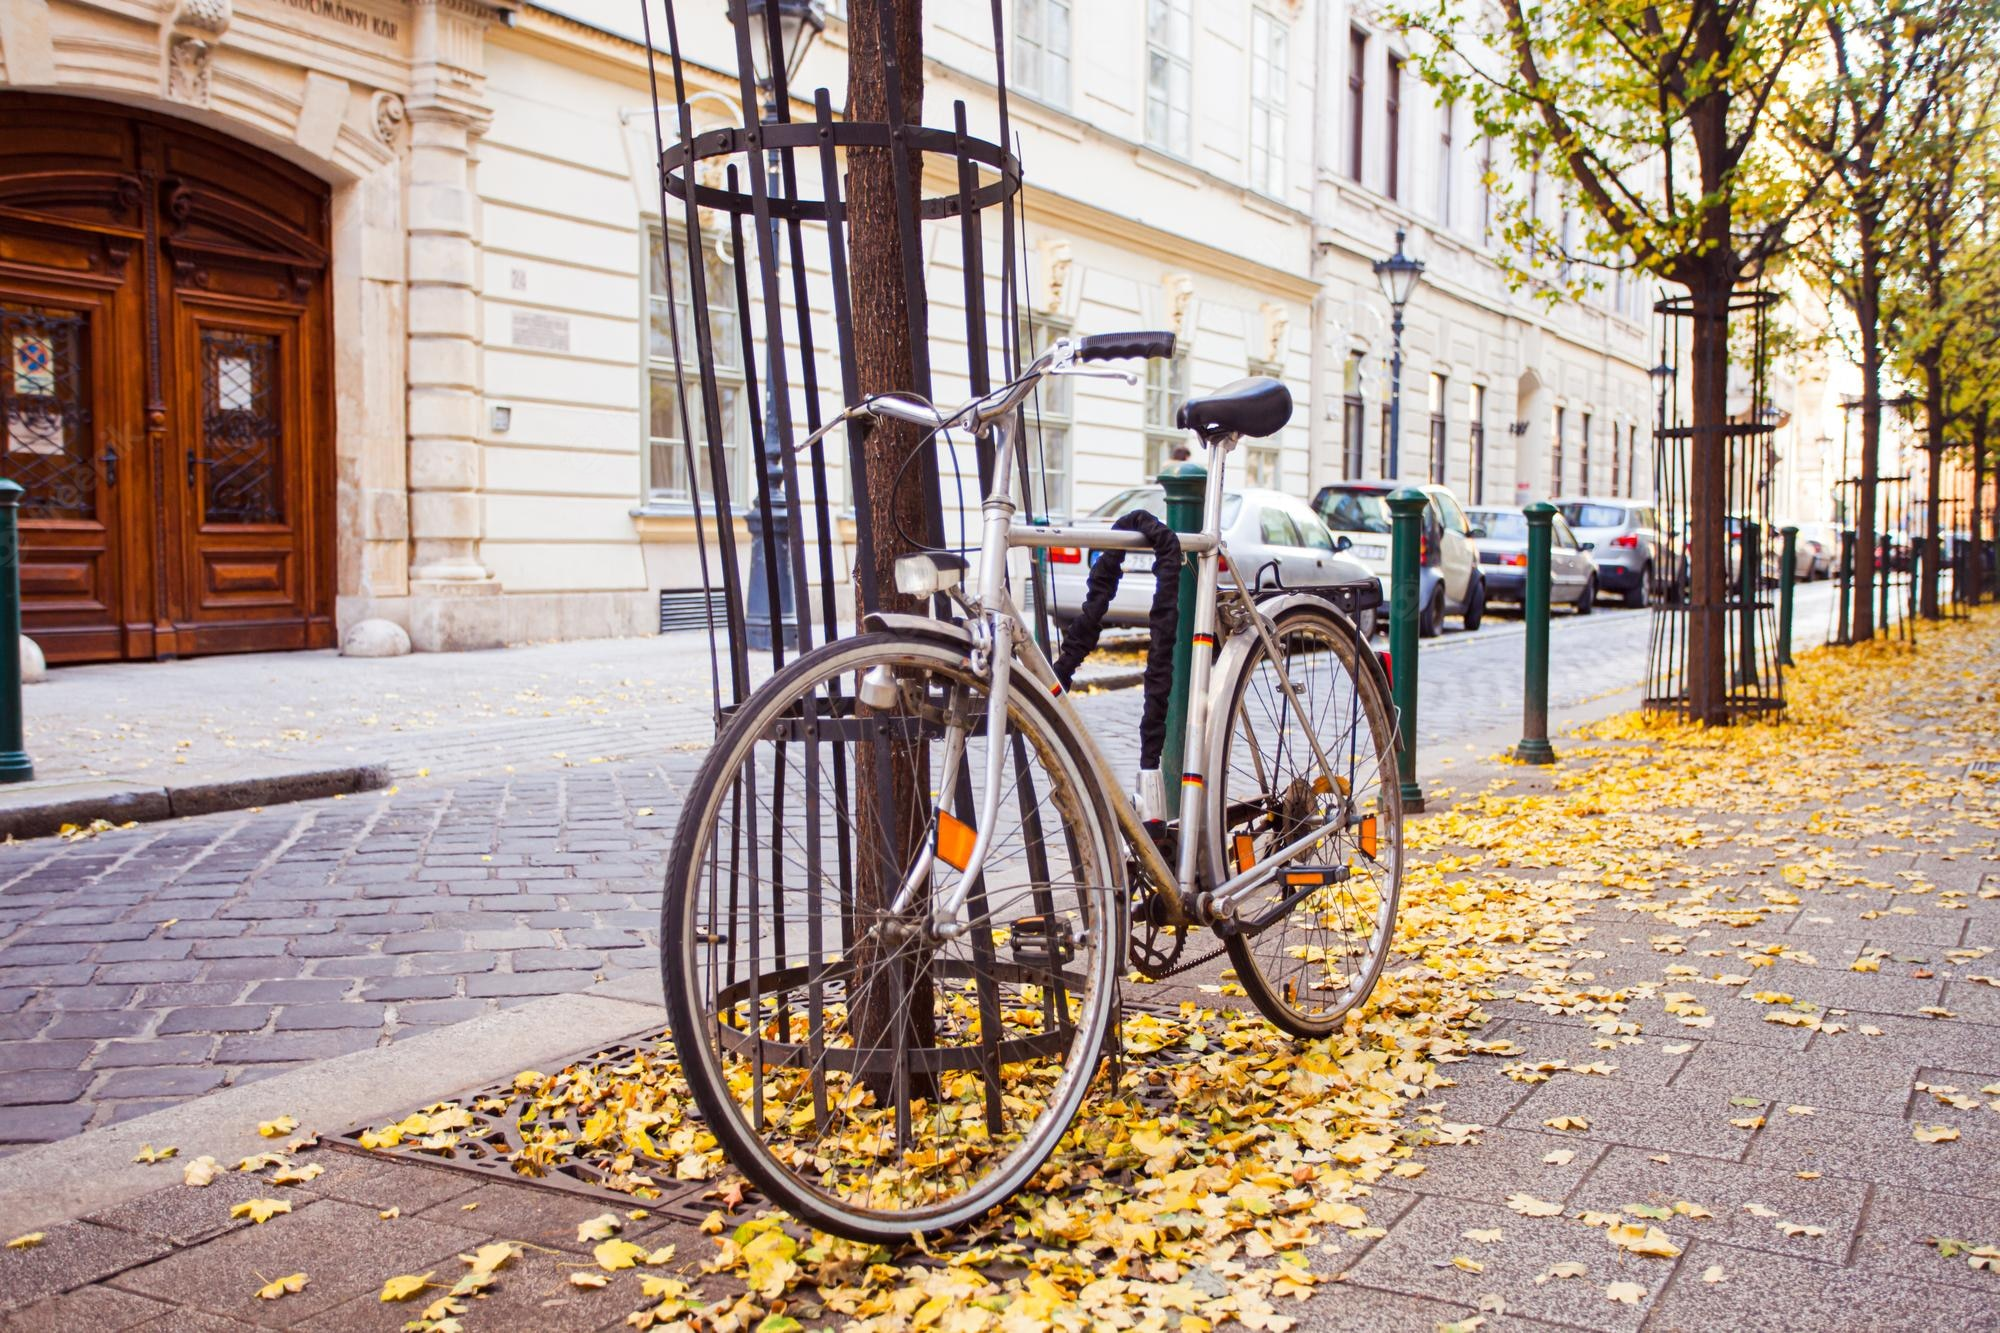bike: (636, 347, 1459, 1244)
